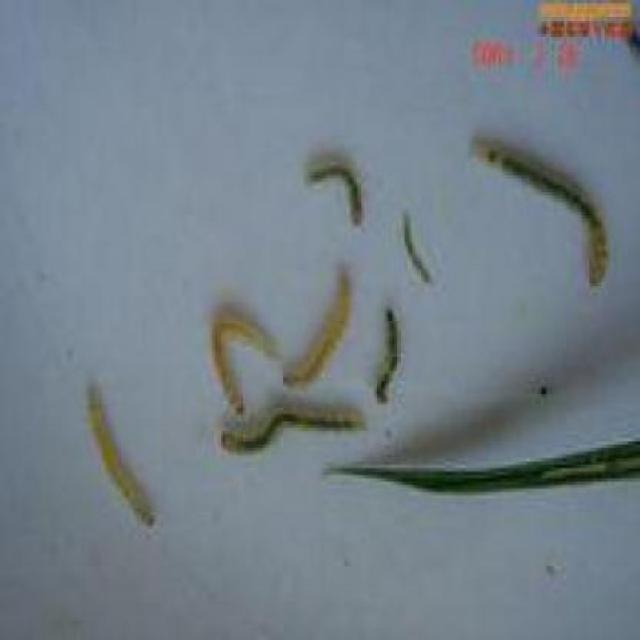leaf-folder: (460, 104, 628, 314), (77, 377, 171, 540), (286, 258, 360, 402), (185, 309, 282, 411), (306, 140, 379, 249), (203, 417, 375, 455), (365, 294, 423, 403), (391, 212, 455, 308)
